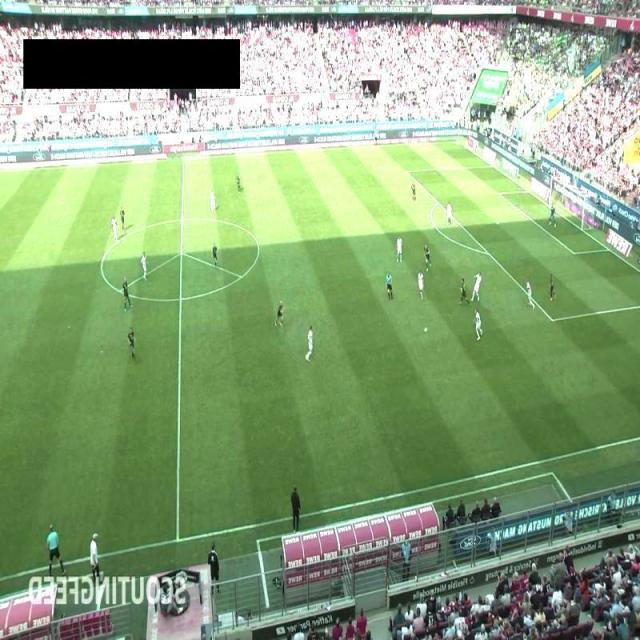bigarea_bottom_inner: (547, 314, 558, 324)
bigarea_top_inner: (402, 166, 412, 177)
bigarea_top_outter: (488, 161, 499, 172)
bottom_arc_area_intersection: (484, 248, 494, 260)
corner: (453, 136, 464, 148)
halfcircle_bottom: (175, 294, 186, 305)
halfcircle_top: (177, 214, 188, 226)
midline_bottom_intersection: (171, 532, 185, 549)
midline_top_intersection: (178, 154, 188, 164)
smallarea_bottom_inner: (568, 248, 580, 259)
smallarea_bottom_outter: (604, 245, 614, 256)
smallarea_top_inner: (494, 188, 504, 199)
smallarea_top_outter: (524, 186, 534, 197)
top_arc_area_intersection: (433, 198, 444, 208)
